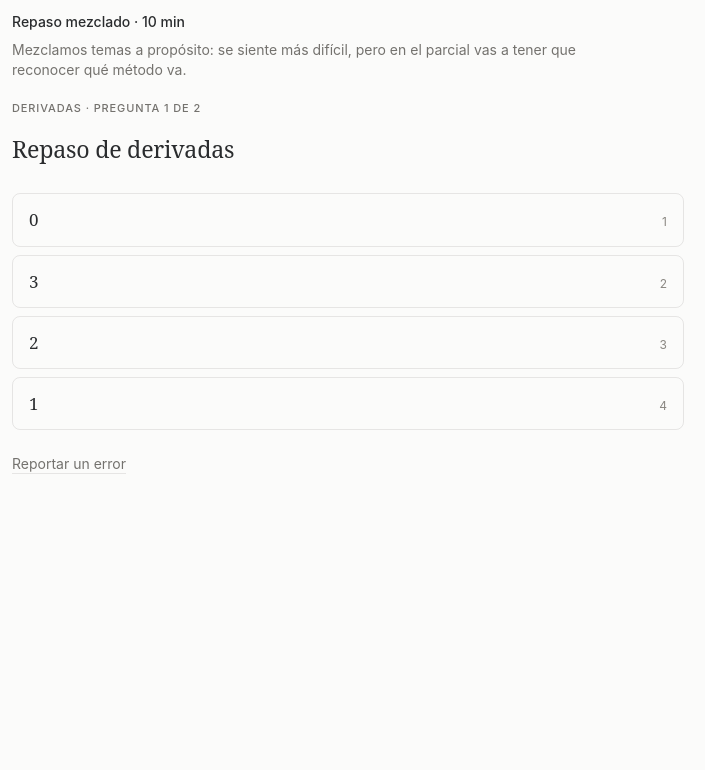
Práctica v2 › Sesión mezclada muestra las dos fases
Expected: the heading "Repaso de derivadas" is shown, [12, 133, 234, 165]
Expected: the text "Repaso mezclado · 10 min" is shown, [12, 13, 185, 30]
Click the button "2 3" at (34, 342), box [12, 316, 684, 369]
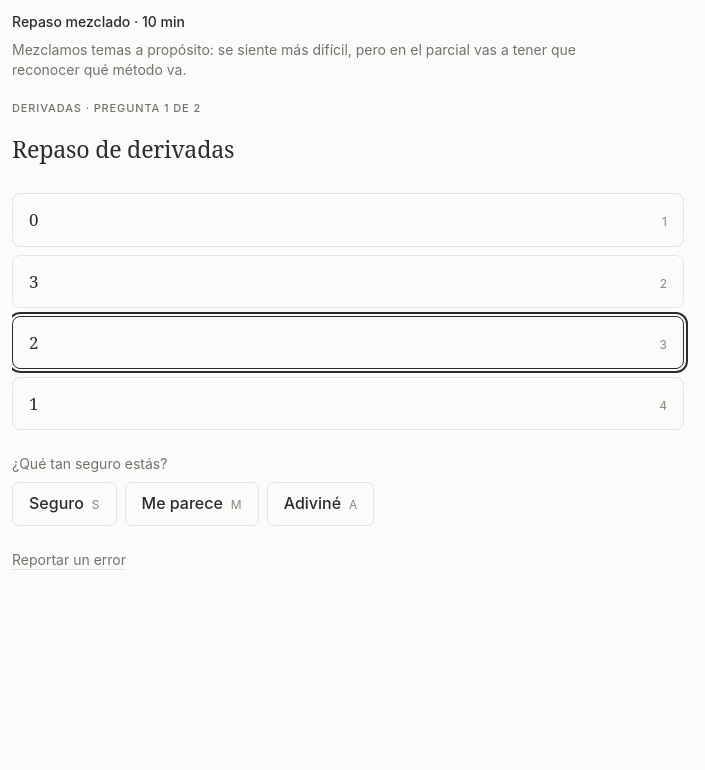
Click the button "Seguro S" at (64, 504), box [12, 482, 116, 526]
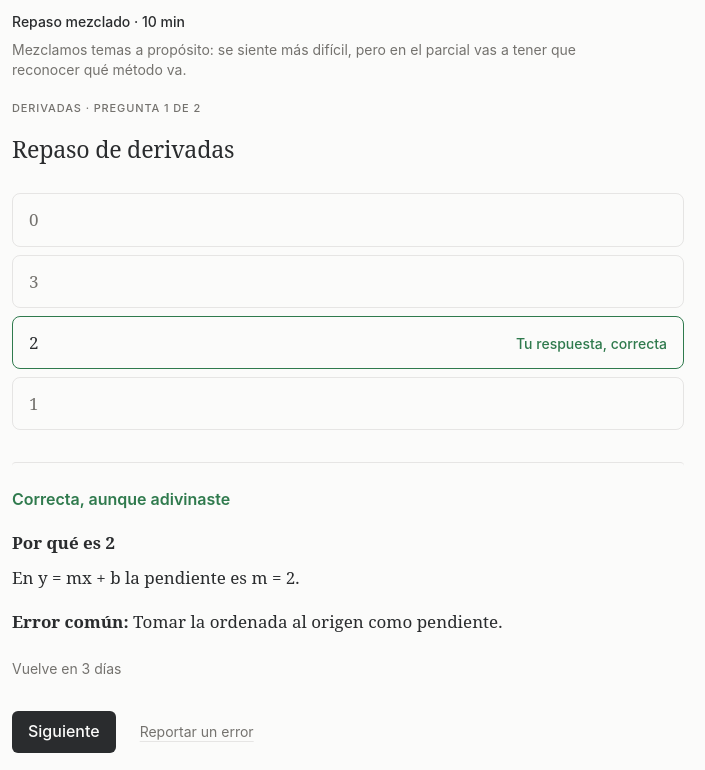
Click the button "Siguiente" at (64, 732), box [12, 711, 116, 753]
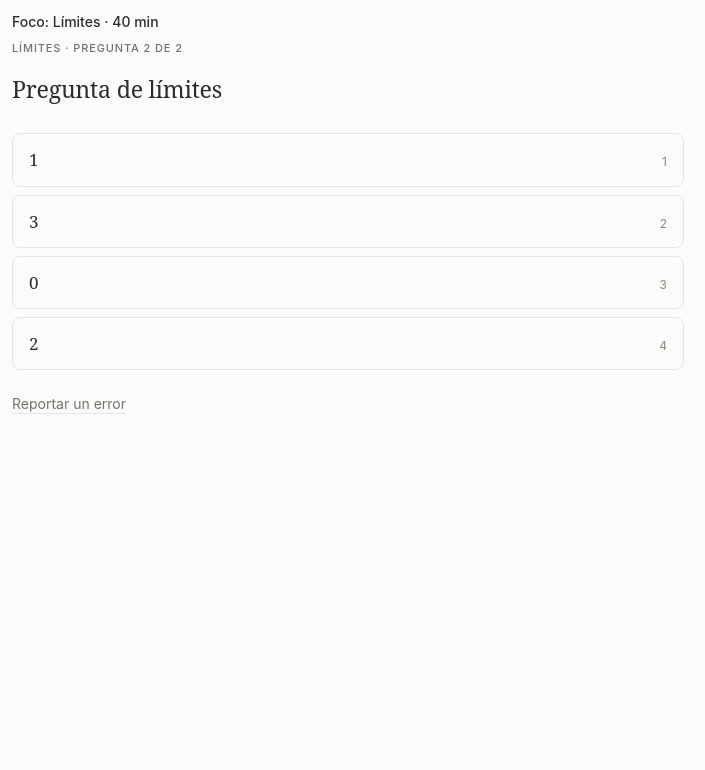
Now the heading "Pregunta de límites" is shown, box [12, 73, 222, 105]
Now the text "Foco: Límites · 40 min" is shown, box [12, 13, 159, 30]
Now the text "Repaso mezclado · 10 min" is gone
